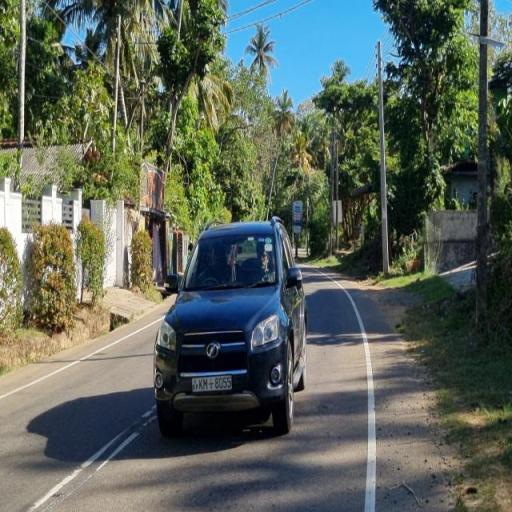double_white_line: (25, 406, 153, 510)
